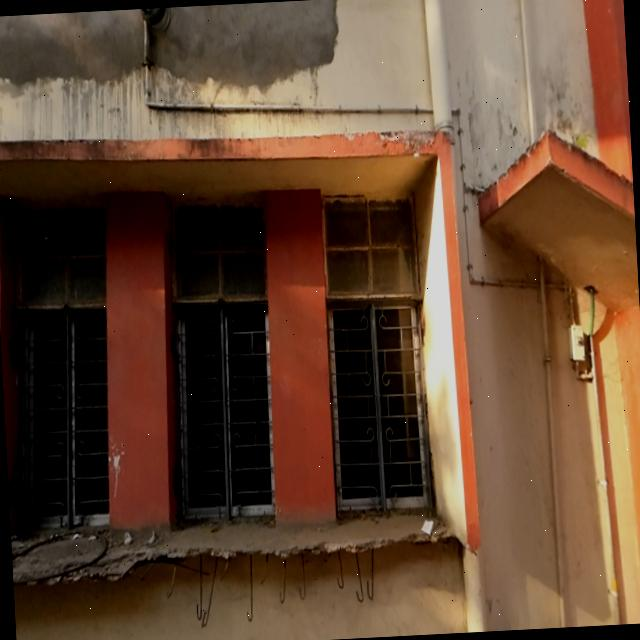spalling: (0, 0, 338, 86)
